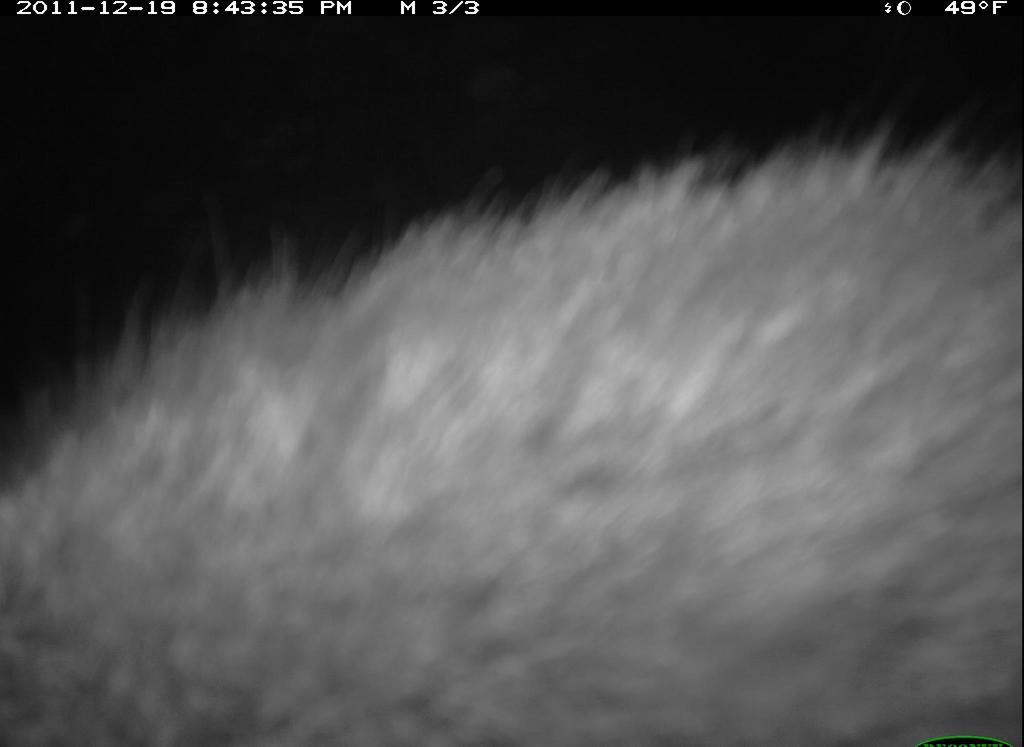raccoon: (4, 135, 1023, 738)
